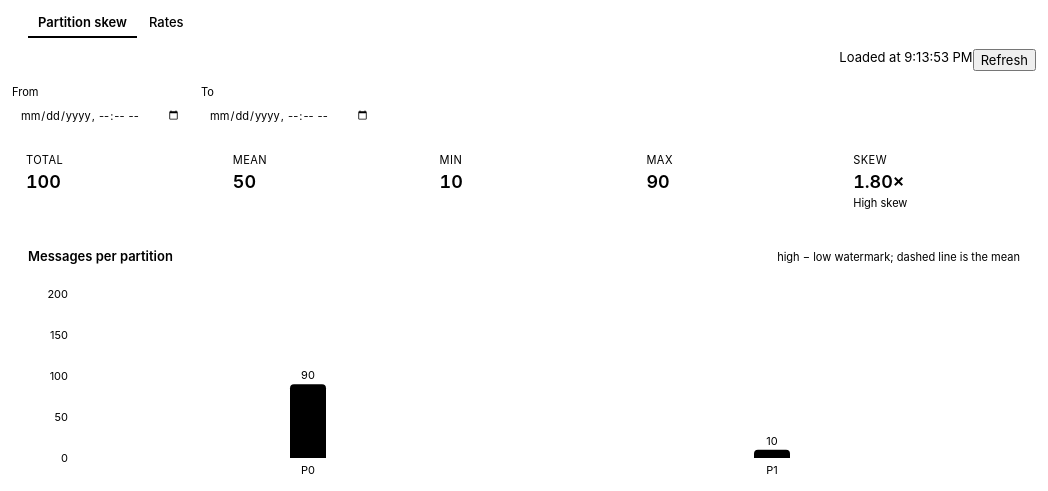
Test: TopicMetricsTab › From / To window › counts the window on the broker and re-draws the skew from it
Expected: the text "100" is shown, left=26, top=171, right=61, bottom=192
Type "2026-01-01T00:00" into the field labelled "From" at (100, 116), box left=12, top=103, right=189, bottom=129
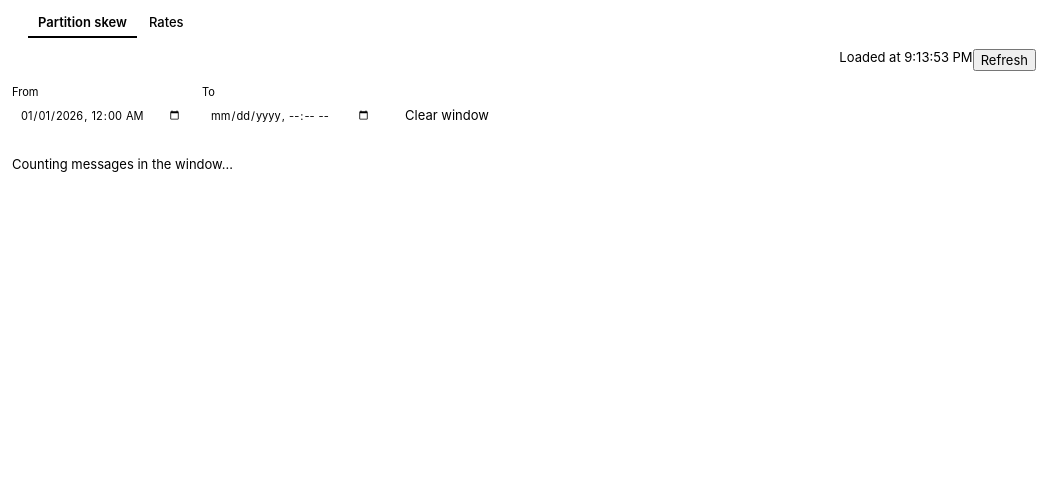
Type "2026-01-02T00:00" into the field labelled "To" at (290, 116), box left=202, top=103, right=379, bottom=129
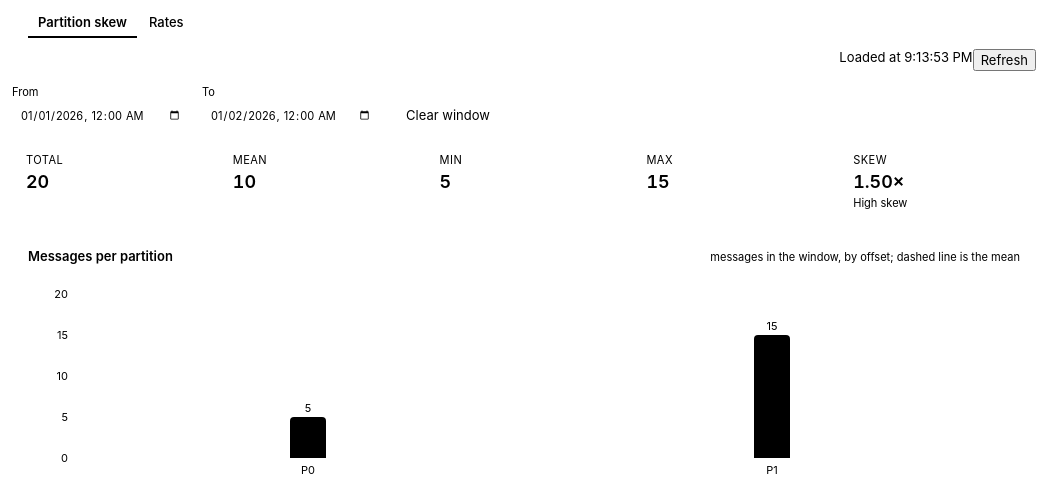
Now the text "20" is shown, box left=26, top=171, right=49, bottom=192
Now the text "1.50×" is shown, box left=853, top=171, right=904, bottom=192
